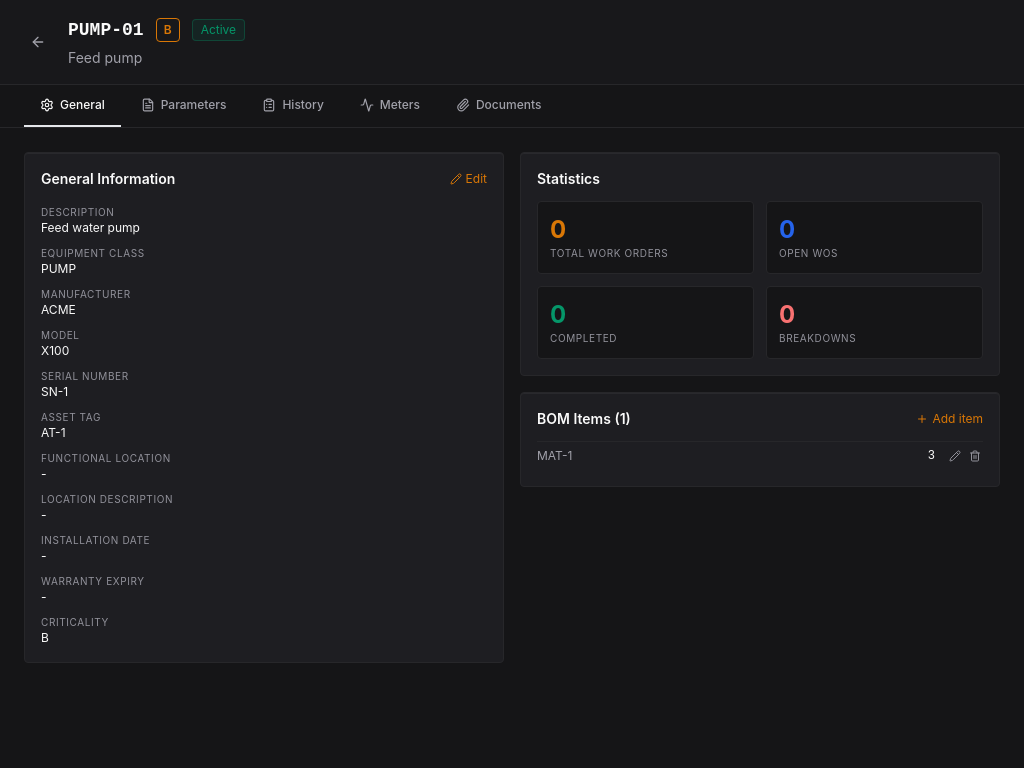
it: EquipmentDetailPage master-data edit (G4) › saves master-data changes through equipmentService.update and reloads
Click the button "Edit" at {"x": 468, "y": 179}, box [450, 171, 487, 187]
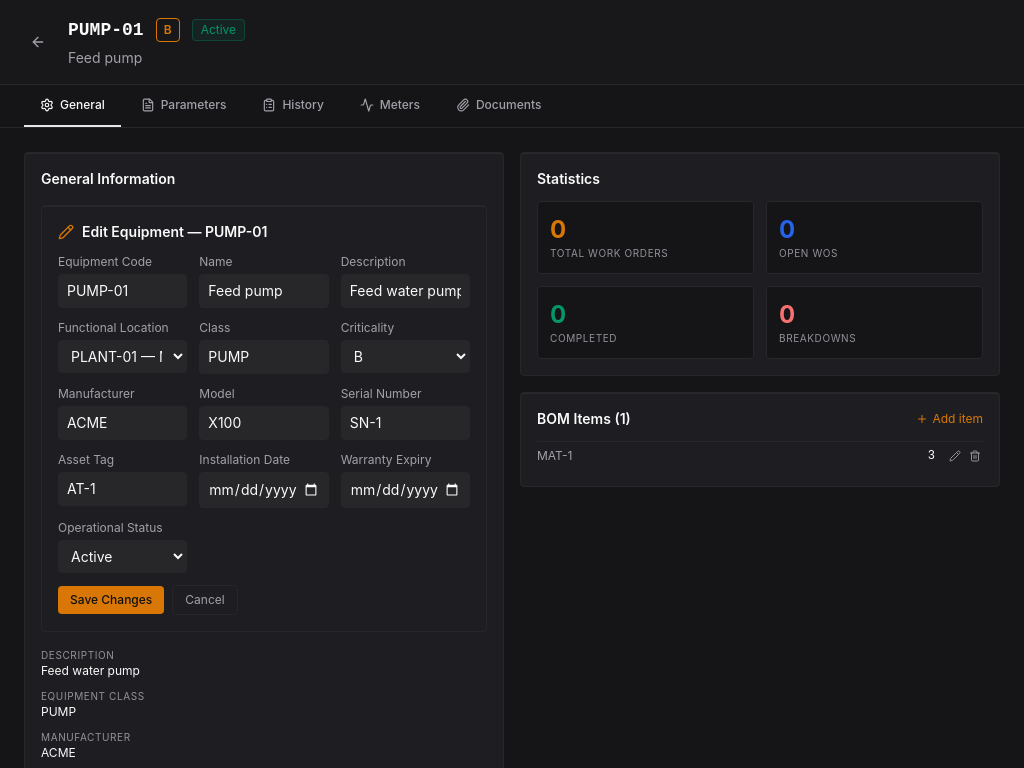
Result: the field named "Equipment name" holds "Feed pump"
Replace the text in the field named "Equipment name" with "Feed pump Mk2" at {"x": 264, "y": 291}, box [199, 274, 329, 308]
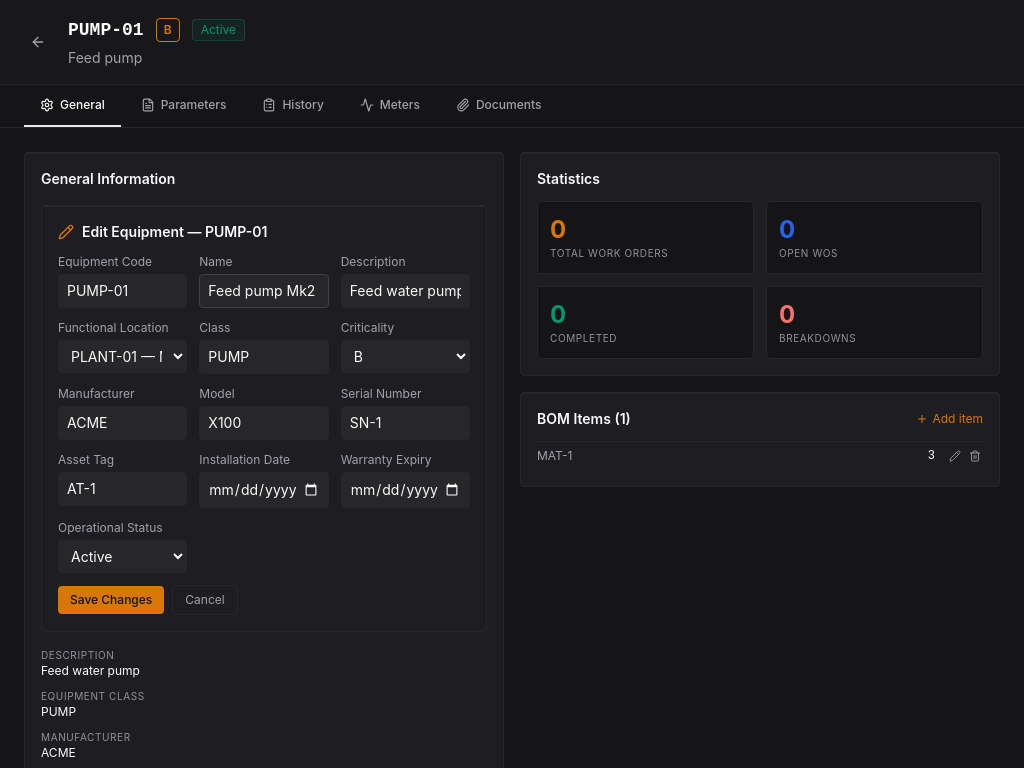
Select "S" in the dropdown named "Equipment criticality" at {"x": 405, "y": 356}, box [341, 340, 470, 373]
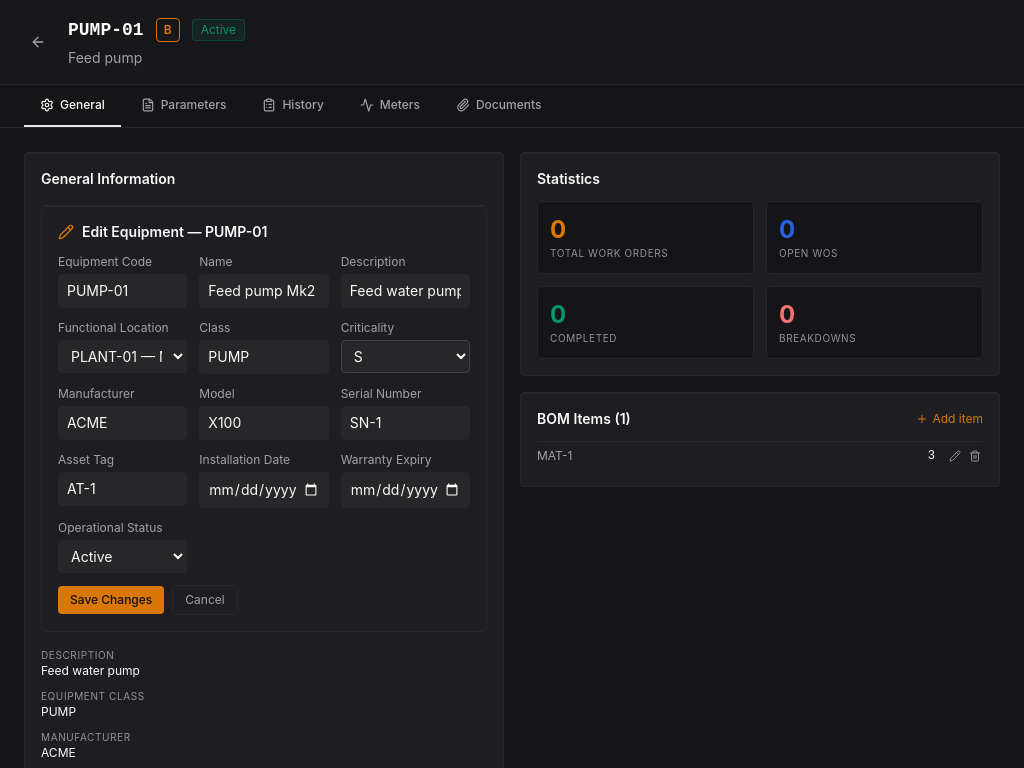
Click the button "Save Changes" at {"x": 111, "y": 600}, box [58, 586, 164, 614]
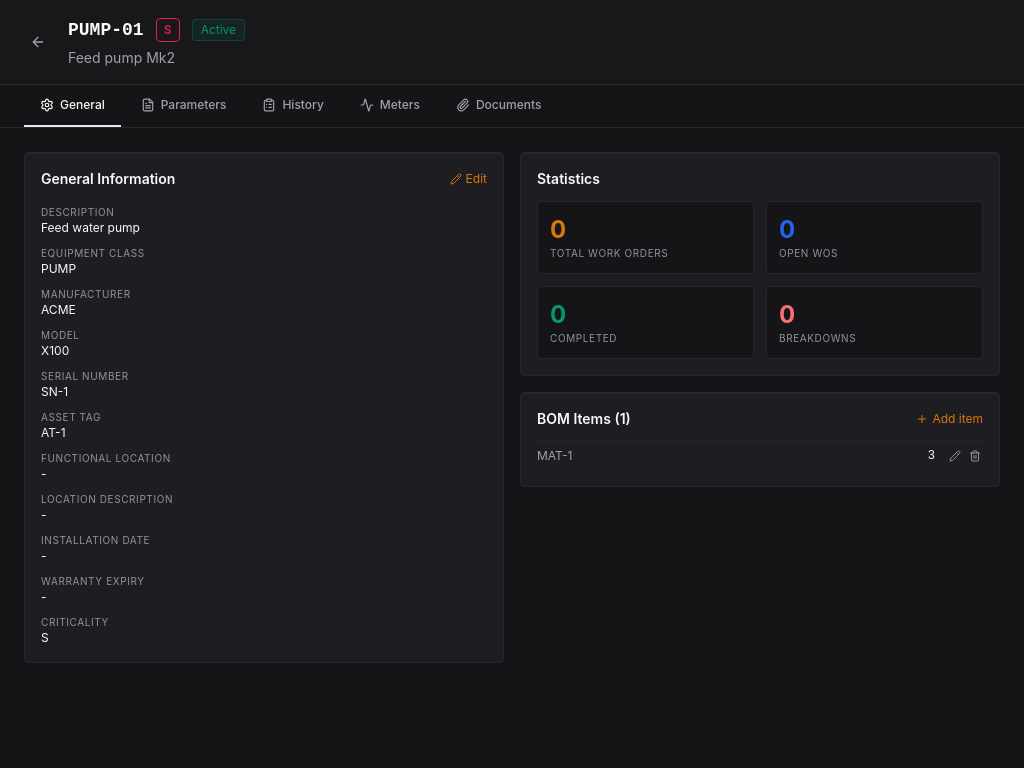
Result: the text "Feed pump Mk2" is shown at [68, 49, 175, 66]
